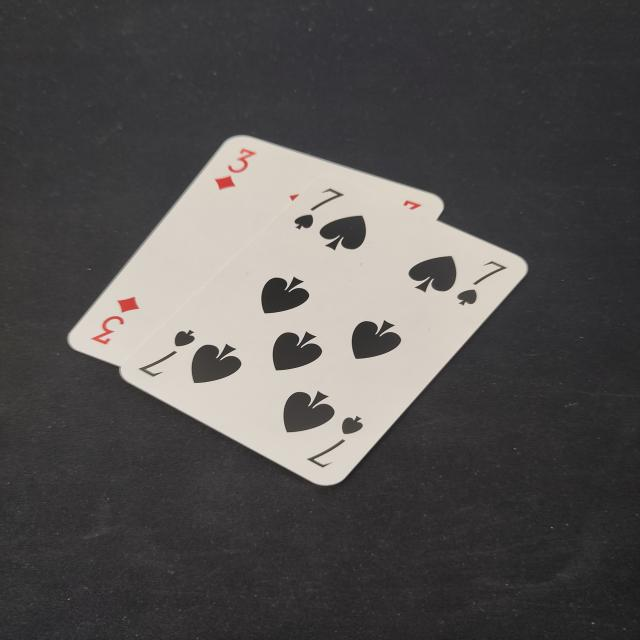3d: (84, 289, 146, 350), (208, 144, 261, 202)
7s: (302, 410, 371, 474), (132, 323, 202, 386), (450, 254, 516, 310), (285, 183, 350, 239)
